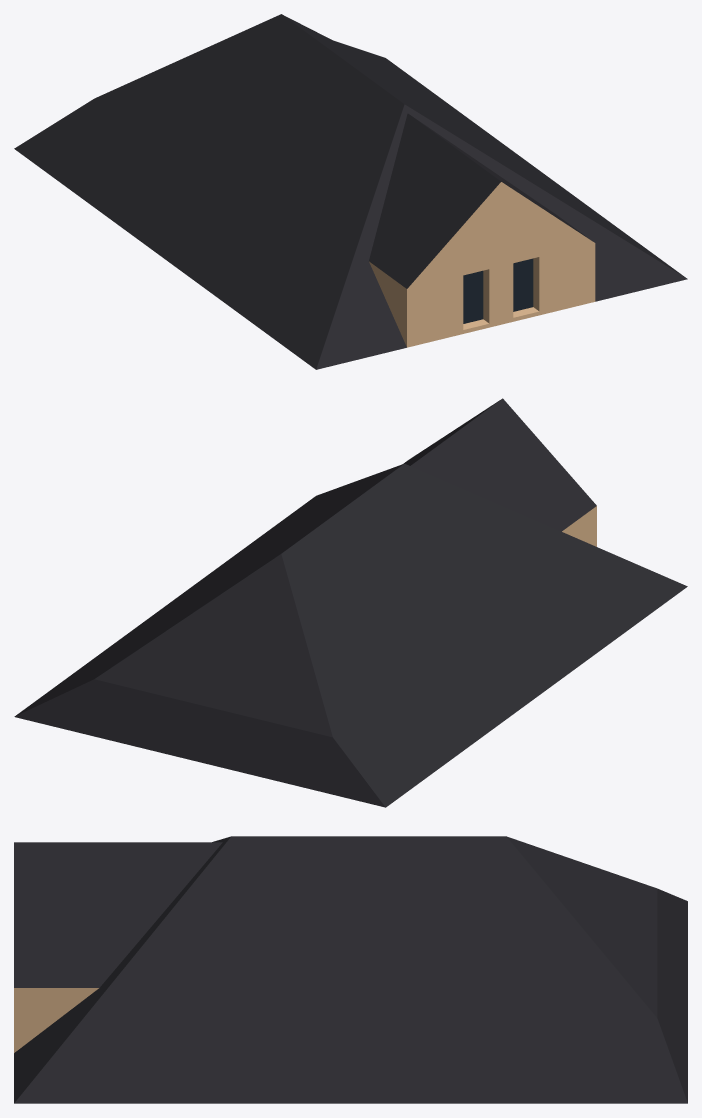
Rendered from B1_Roof_angled_00.glb.
3 views of the same model, one above another, from view 1: azimuth 30°, elevation 25°; view 2: azimuth 150°, elevation 25°; view 3: azimuth 270°, elevation 25° (orthographic). The views are drawn at different scales.
Parts seen in each view (by area): view 1: B1_Roof_angled; view 2: B1_Roof_angled; view 3: B1_Roof_angled.
Part boxes in pixels (x1=…): B1_Roof_angled: x1=14, y1=14, x2=687, y2=369; B1_Roof_angled: x1=14, y1=398, x2=687, y2=807; B1_Roof_angled: x1=14, y1=836, x2=687, y2=1103.
Bounding box in the file's own units: 5.68 × 2.17 × 7.99.
